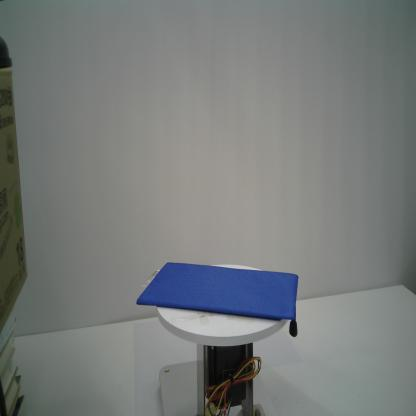Stationery: (134, 260, 300, 340)
